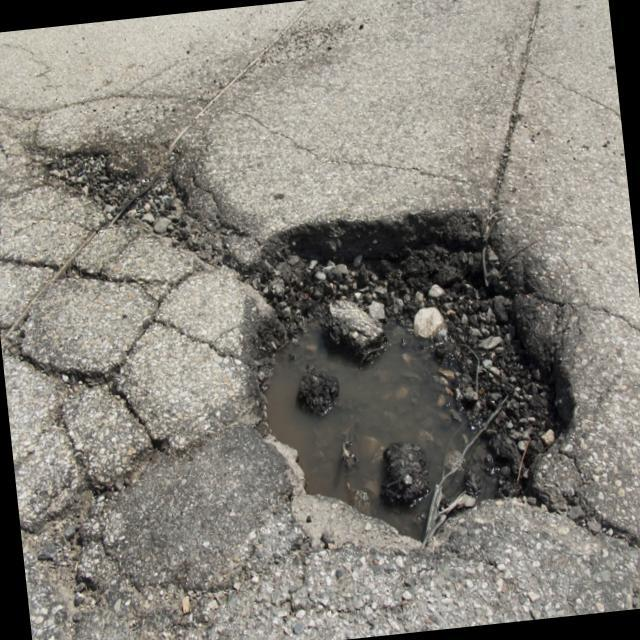Pothole: (50, 72, 640, 591)
